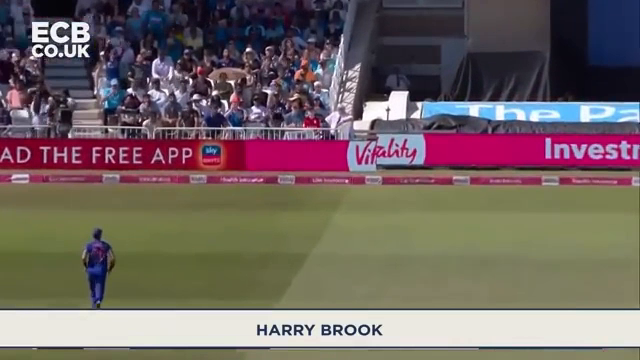fielder: (80, 223, 119, 308)
